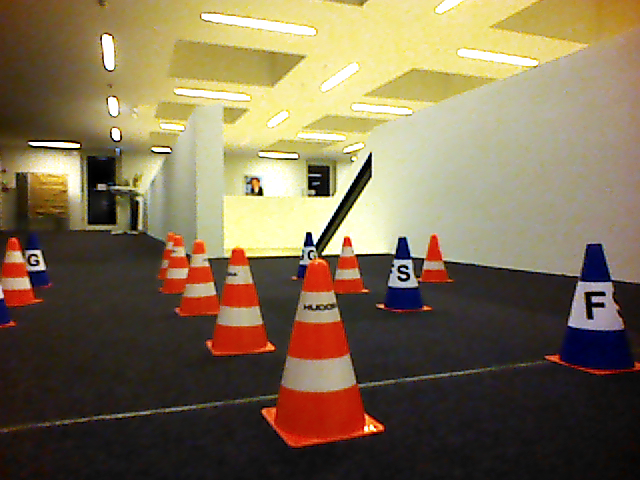bluecone: (549, 242, 640, 375), (377, 236, 428, 315)
orangeconesmall: (265, 259, 376, 445), (209, 247, 278, 358)
